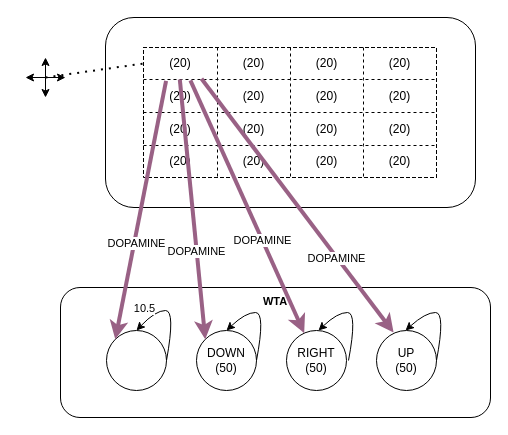
Image size: 508x435. Some labels were removed from this diagram. Here are the shapes that lost their labels. From the top down, the box of each, then its label:
(104, 16, 476, 208): States
(106, 330, 166, 390): LEFT (50)
